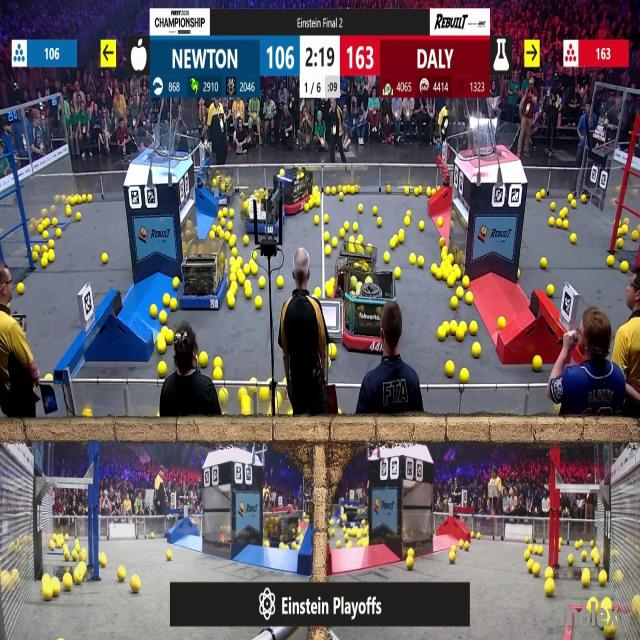ball_ground: (544, 581, 554, 598), (604, 625, 615, 639), (132, 578, 141, 595), (42, 586, 52, 601), (598, 570, 607, 586), (258, 387, 268, 401), (64, 578, 74, 592), (583, 570, 591, 587), (159, 361, 168, 376), (242, 403, 251, 418), (471, 344, 480, 358), (53, 583, 62, 597), (74, 570, 83, 584), (533, 356, 541, 370), (446, 361, 454, 375), (200, 352, 208, 366), (226, 294, 234, 308), (456, 328, 465, 340), (329, 345, 336, 360), (460, 368, 468, 381), (439, 327, 447, 340), (100, 554, 108, 567), (218, 390, 226, 403), (498, 317, 506, 329), (468, 322, 476, 334), (214, 366, 222, 378), (325, 286, 333, 298), (159, 341, 167, 353), (166, 333, 174, 345), (117, 567, 124, 580), (532, 563, 539, 576), (16, 283, 24, 294), (606, 255, 614, 266), (544, 567, 552, 578), (546, 284, 553, 296), (465, 291, 472, 303), (407, 558, 414, 570), (394, 268, 401, 280), (622, 262, 629, 274), (254, 296, 261, 308), (161, 312, 168, 324), (451, 321, 458, 333), (150, 305, 156, 319), (245, 286, 252, 298), (82, 410, 90, 420), (462, 277, 469, 288), (418, 255, 425, 266), (171, 300, 178, 311), (315, 287, 322, 298), (539, 257, 546, 268), (452, 296, 458, 308), (450, 552, 456, 564), (397, 232, 403, 244), (222, 232, 230, 241), (214, 357, 221, 367), (459, 320, 466, 330), (556, 217, 563, 227), (238, 274, 245, 284), (80, 552, 87, 562), (348, 242, 355, 252), (602, 599, 609, 609), (570, 234, 576, 245), (251, 265, 257, 276), (165, 294, 171, 305), (102, 252, 108, 263), (278, 277, 284, 288), (48, 251, 54, 262), (448, 276, 454, 287), (173, 278, 179, 289), (527, 561, 532, 574), (42, 573, 50, 581), (562, 219, 569, 228), (258, 278, 264, 288), (411, 254, 417, 264), (384, 252, 390, 262), (419, 220, 425, 230), (341, 230, 347, 240), (244, 236, 250, 246), (331, 238, 337, 248), (166, 551, 172, 561), (457, 287, 463, 297), (244, 266, 250, 276), (315, 198, 321, 208), (390, 240, 396, 250), (561, 208, 567, 218), (232, 282, 238, 292), (594, 556, 600, 566), (231, 238, 237, 248), (588, 602, 594, 612), (537, 544, 543, 554), (231, 273, 237, 283), (579, 552, 585, 562), (455, 270, 461, 280), (618, 240, 625, 248), (435, 272, 442, 280), (238, 256, 245, 264), (226, 221, 232, 230), (570, 200, 576, 209), (324, 246, 330, 255), (632, 232, 638, 241), (547, 217, 553, 226), (41, 258, 47, 267), (403, 217, 409, 226), (386, 184, 392, 193), (66, 207, 72, 216), (439, 217, 445, 226), (426, 187, 432, 196), (65, 552, 71, 561), (622, 224, 628, 233), (72, 552, 78, 561), (232, 265, 238, 274), (324, 233, 329, 243), (431, 265, 436, 275), (568, 555, 573, 565), (315, 216, 321, 224), (352, 222, 358, 230), (551, 203, 557, 211), (444, 321, 450, 329), (524, 552, 530, 560), (51, 217, 57, 225), (574, 540, 580, 548), (231, 256, 237, 264), (442, 253, 448, 261), (32, 242, 38, 250), (441, 239, 446, 248), (535, 191, 540, 200), (371, 207, 376, 216), (33, 252, 38, 261), (580, 196, 585, 205), (48, 240, 53, 249), (358, 236, 363, 245), (449, 254, 454, 263), (517, 271, 522, 280), (408, 550, 414, 557), (228, 210, 234, 217), (451, 543, 457, 550), (403, 187, 409, 194), (212, 223, 218, 230), (162, 326, 168, 333), (324, 187, 330, 194), (252, 378, 258, 385), (233, 248, 238, 256), (345, 221, 350, 229), (358, 205, 363, 213), (43, 232, 48, 240), (340, 191, 345, 199), (464, 541, 469, 549), (220, 218, 225, 226), (222, 209, 227, 217), (252, 252, 257, 260), (475, 532, 480, 540), (81, 193, 86, 201), (244, 203, 249, 211), (244, 279, 249, 287), (378, 217, 382, 226), (76, 212, 80, 221), (58, 230, 62, 239), (306, 204, 310, 213), (460, 539, 464, 548), (210, 233, 215, 240), (408, 210, 413, 217), (287, 411, 292, 418), (415, 188, 420, 195), (331, 186, 336, 193), (357, 533, 362, 540), (324, 215, 328, 223), (89, 193, 93, 201), (218, 210, 222, 218), (525, 536, 530, 542), (338, 540, 342, 547), (348, 541, 352, 548), (568, 193, 572, 200), (266, 540, 270, 547), (280, 542, 284, 549), (330, 529, 334, 536), (150, 535, 154, 541), (339, 411, 343, 417), (292, 542, 296, 548), (345, 534, 349, 540), (528, 544, 532, 550)
goal: (466, 122, 522, 160), (130, 130, 188, 160)
robot_blue: (180, 239, 229, 310), (242, 188, 282, 238), (264, 512, 302, 548), (200, 169, 233, 206), (341, 487, 369, 525)
robot_red: (341, 278, 386, 352), (274, 164, 314, 213)
